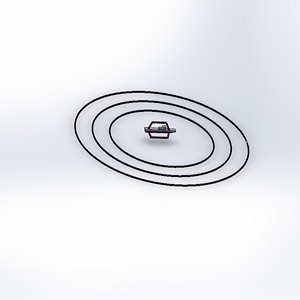circle: (67, 84, 255, 194)
submarine: (139, 119, 185, 148)
